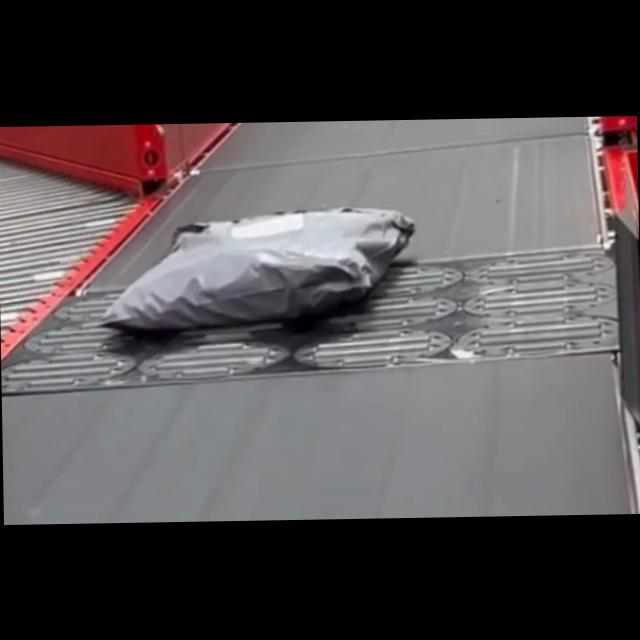mailer: (101, 205, 409, 332)
